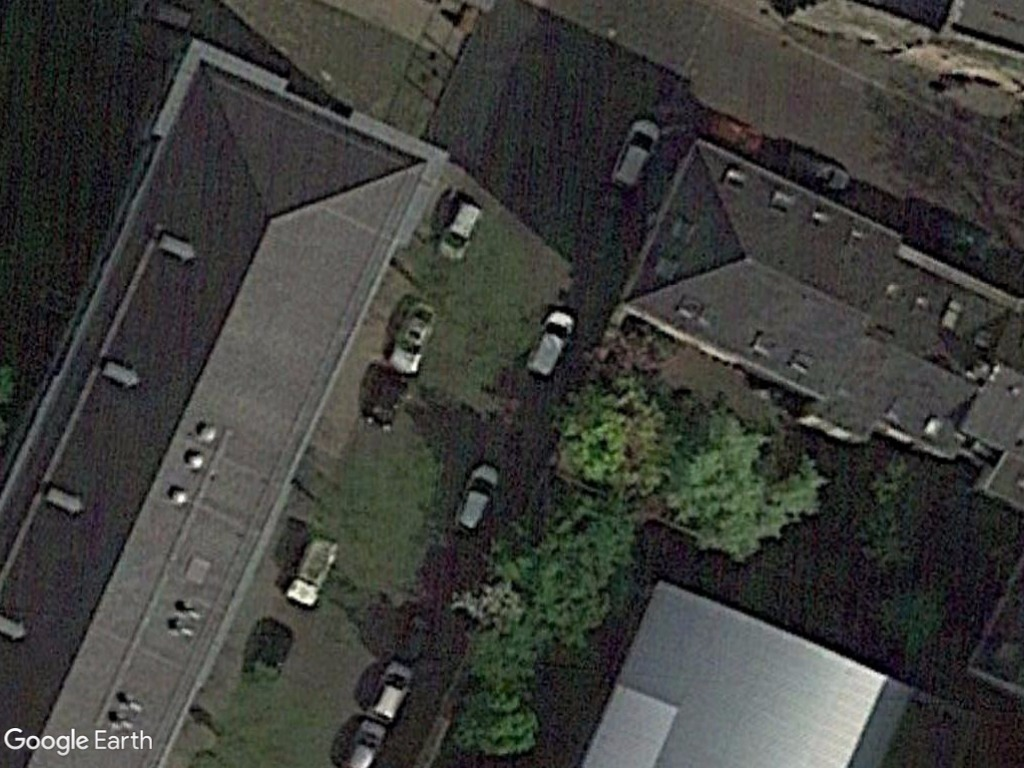car: (382, 294, 442, 380), (607, 112, 665, 196), (448, 459, 505, 537), (433, 191, 487, 271), (363, 659, 415, 726)
van: (521, 304, 573, 386)
